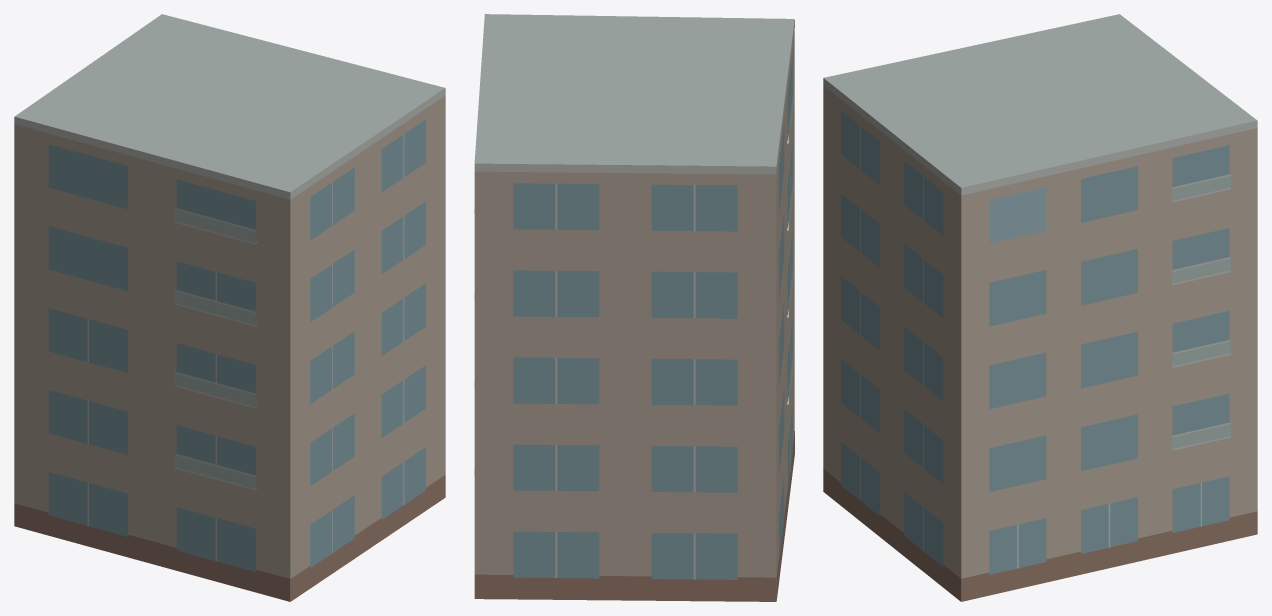
The model's file is survey-upis-32841633.glb.
The picture shows the model from 3 angles, left to right: view 1: azimuth 30°, elevation 25°; view 2: azimuth 150°, elevation 25°; view 3: azimuth 270°, elevation 25°; orthographic projection. The views are drawn at different scales.
Parts seen in each view (by area): view 1: survey-upis-32841633.tmp; view 2: survey-upis-32841633.tmp; view 3: survey-upis-32841633.tmp.
Boxes of the visible parts, <box> form: survey-upis-32841633.tmp: <box>14,14,445,601</box>; survey-upis-32841633.tmp: <box>474,14,794,601</box>; survey-upis-32841633.tmp: <box>823,14,1257,601</box>.
Size of the model in its own units: 12 by 13.3 by 12.65.
